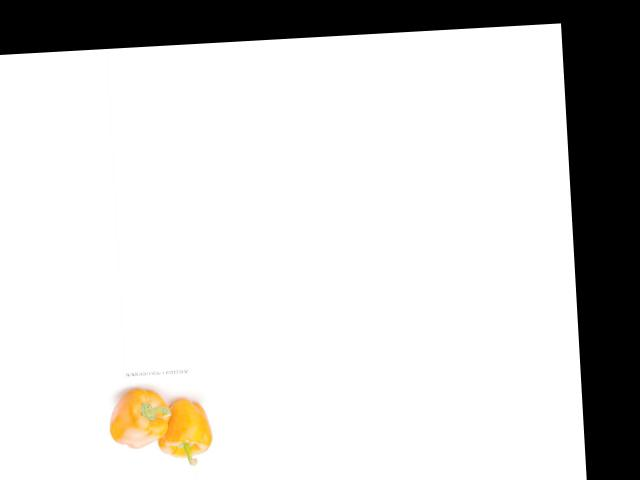bell_pepper: (105, 380, 174, 452)
